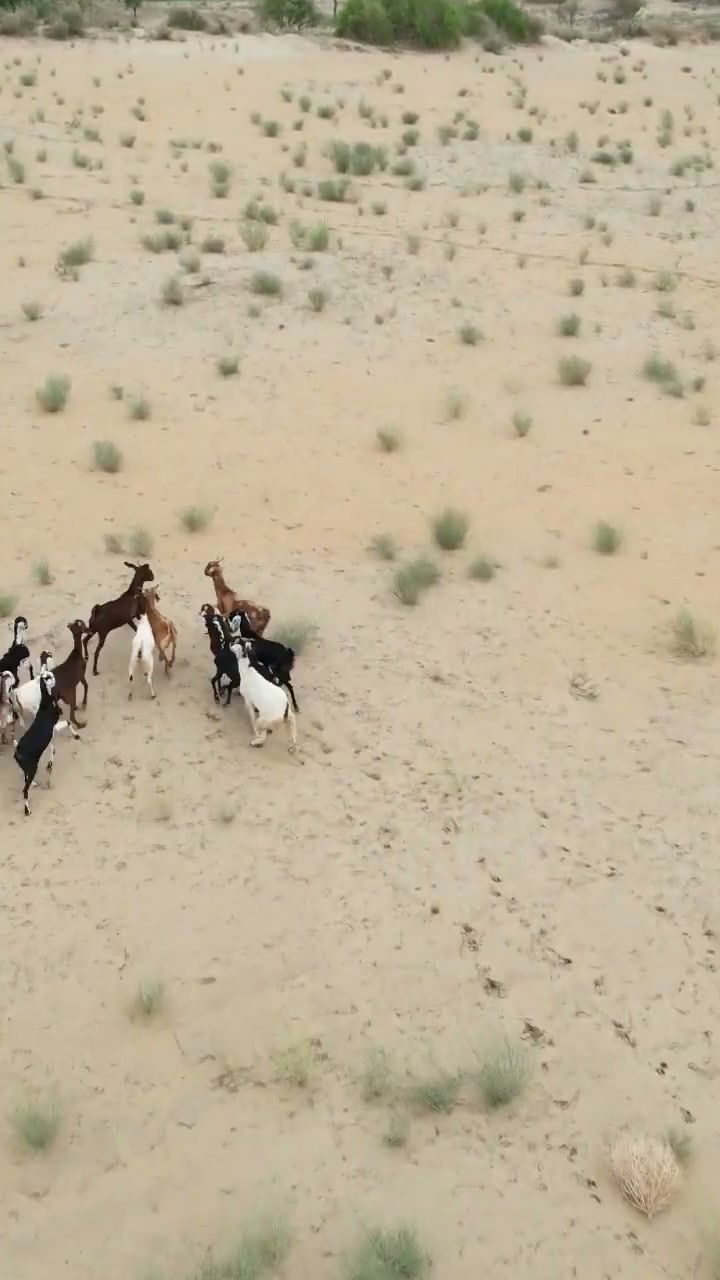animal_footprint: (33, 710, 719, 1262)
